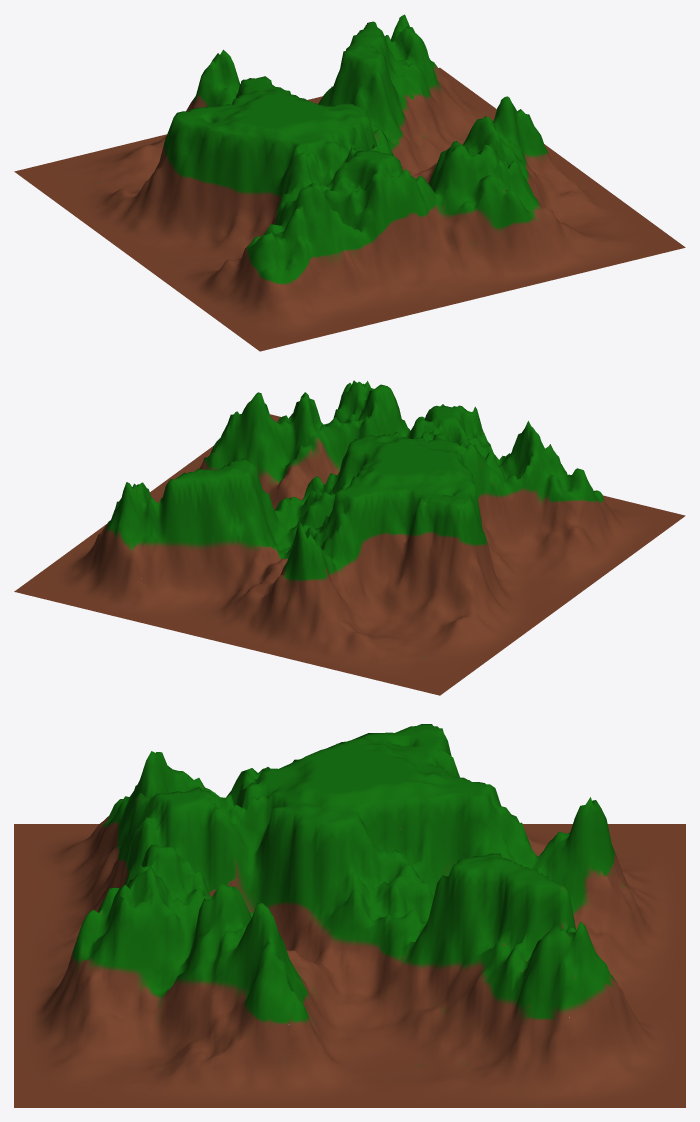
The model's file is sample_terrain.fbx.
3 views of the same model, one above another, from view 1: azimuth 30°, elevation 25°; view 2: azimuth 150°, elevation 25°; view 3: azimuth 270°, elevation 25° (orthographic). The views are drawn at different scales.
Visible parts, largest first — view 1: Landscape; view 2: Landscape; view 3: Landscape.
Boxes of the visible parts, box(x1,y1,x2,y2) form: Landscape: box(14, 14, 685, 351); Landscape: box(14, 380, 685, 695); Landscape: box(14, 724, 685, 1107).
Bounding box in the file's own units: 200 × 50 × 200.
Materials: 1 (1 with a texture image).
